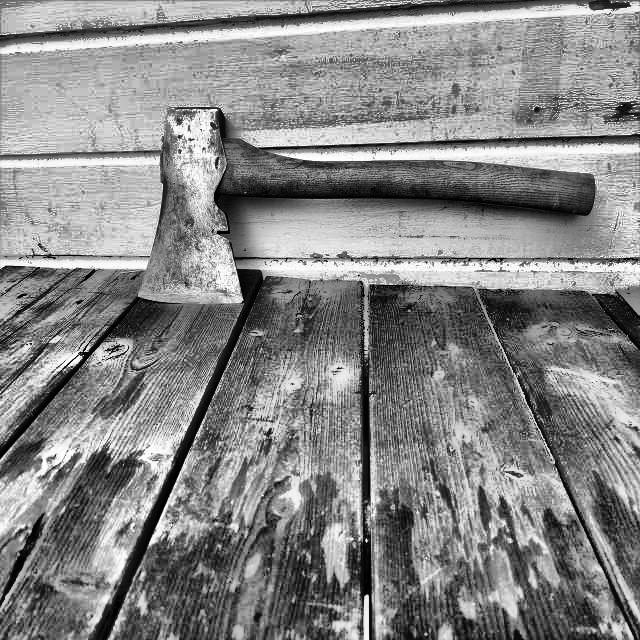kapak: (130, 88, 608, 317)
